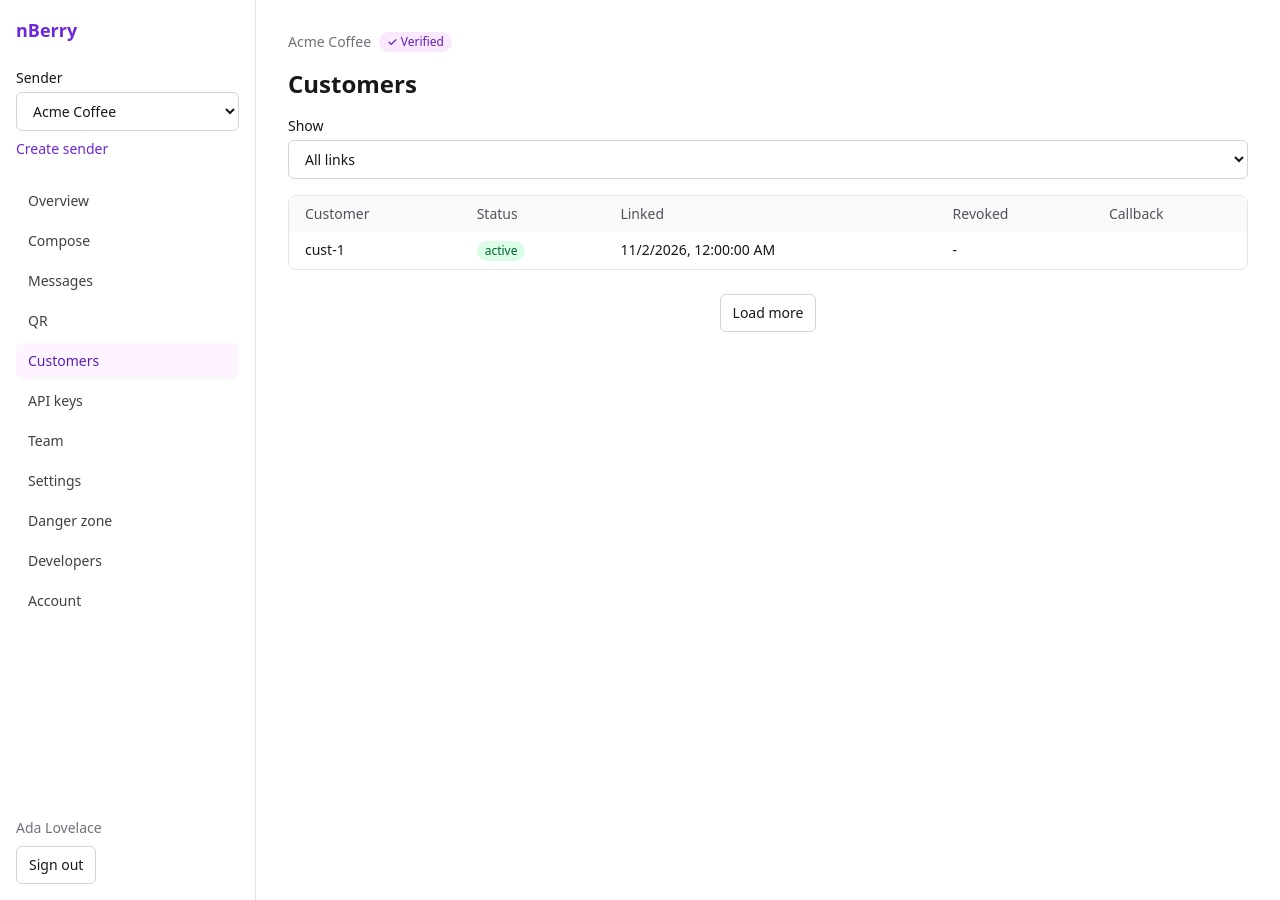
customers › loads more with the cursor
Click the button "Load more". click: x=768, y=313
box: [720, 294, 816, 332]
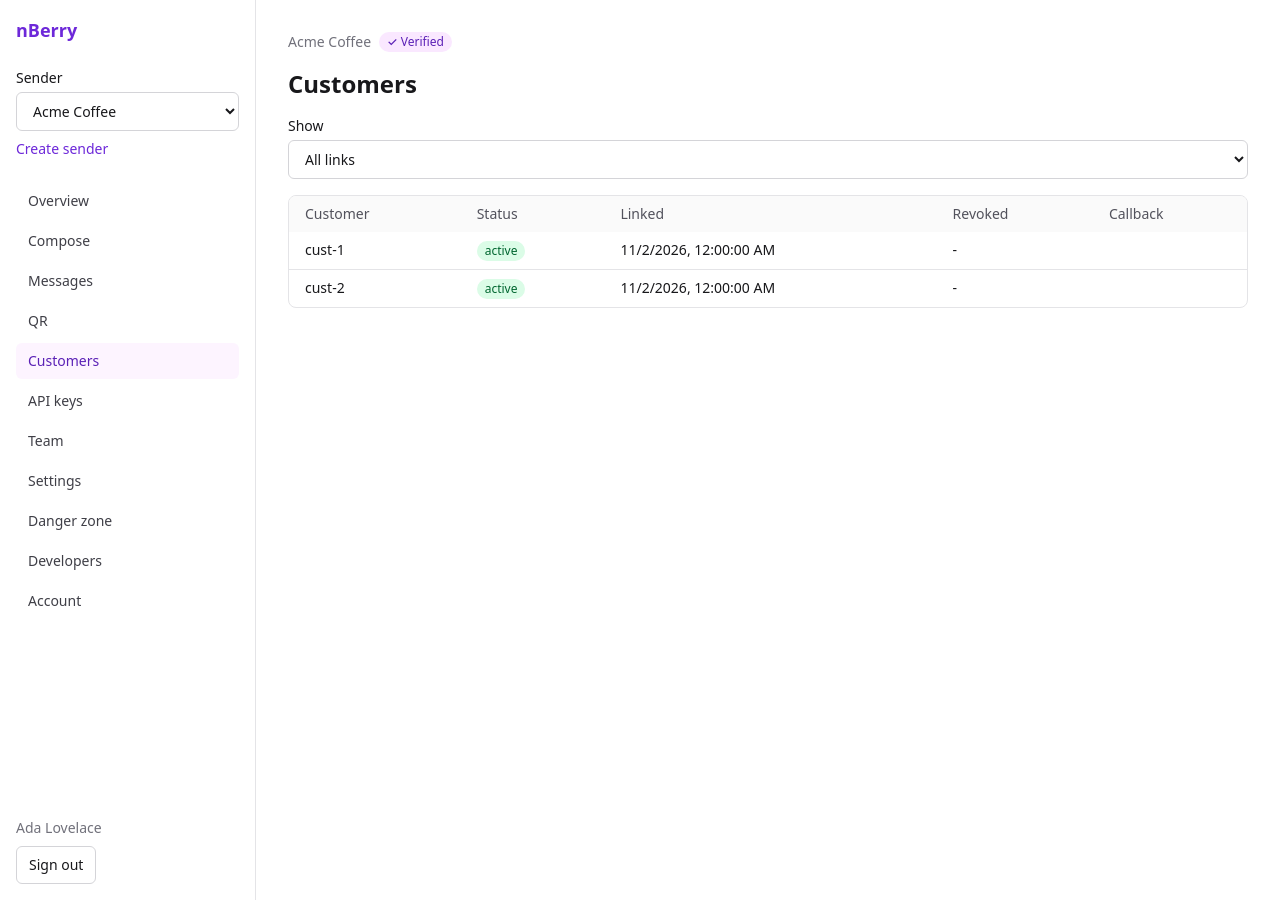
Now the text "cust-2" is shown, box [305, 278, 345, 297]
